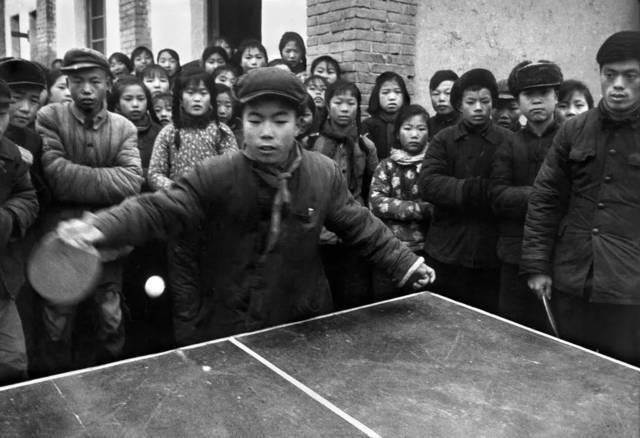ball: (141, 272, 166, 300)
